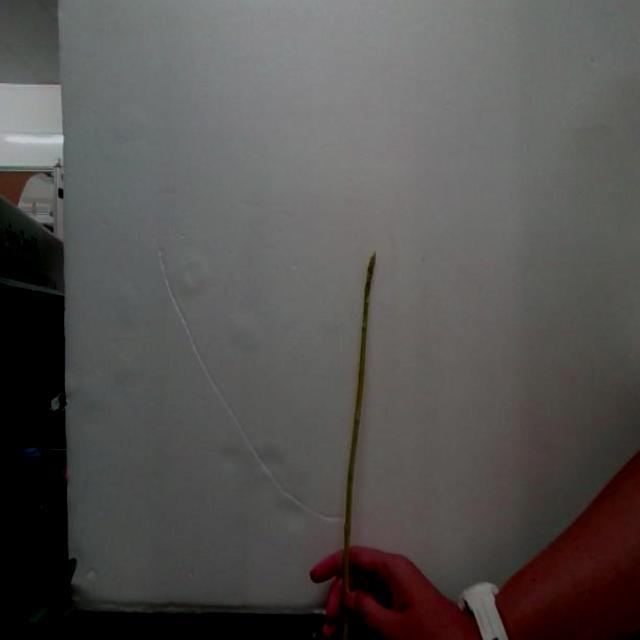aspargus: (341, 255, 376, 599)
